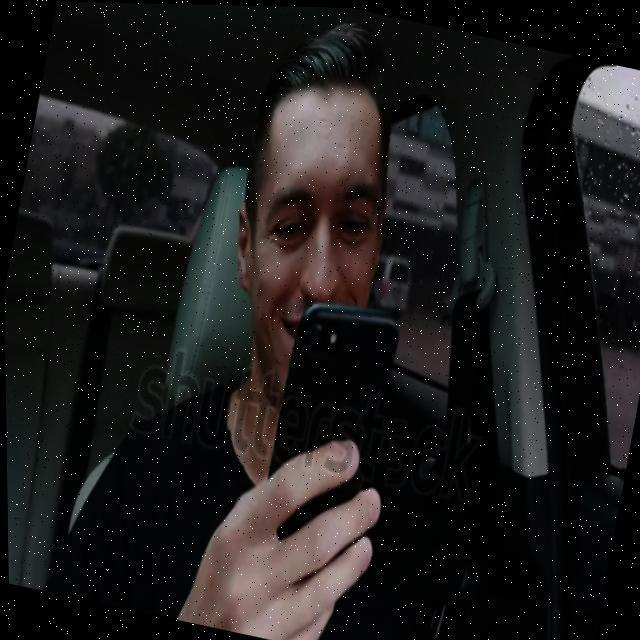PhoneCall: (250, 286, 407, 574)
